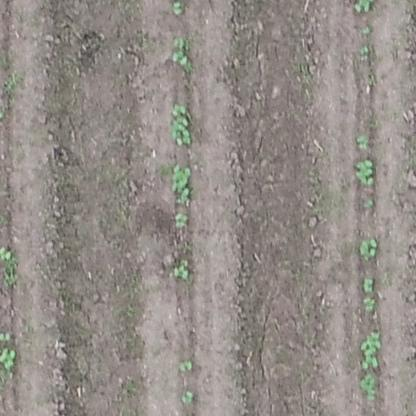vc: (166, 102, 197, 148), (358, 325, 383, 370), (169, 165, 196, 201), (358, 373, 379, 402), (356, 237, 379, 263), (356, 157, 374, 188), (173, 256, 192, 282), (170, 210, 191, 230), (2, 347, 16, 374), (355, 133, 373, 152), (178, 387, 196, 405), (176, 357, 195, 373), (360, 275, 376, 294), (170, 53, 190, 67), (353, 1, 375, 13), (171, 35, 188, 48), (362, 296, 376, 311), (171, 2, 182, 15), (360, 25, 370, 34), (360, 47, 371, 55)
